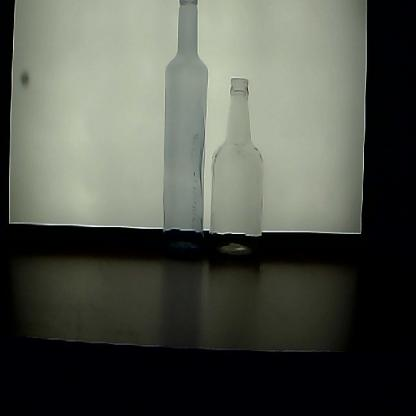Can: (164, 0, 206, 262), (209, 78, 262, 267)
